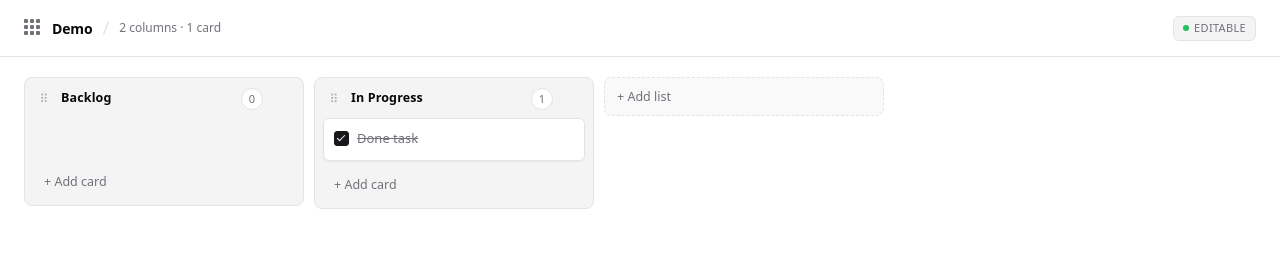
Scenario: Board data loss (two-browser reproduction) › (a) CONCURRENT SAME-COLUMN add: B adds "Card Y" while a remote add of "Card X" to the SAME column arrives → BOTH must survive
# B adds "Card Y" to the empty "Backlog" column (debouncing, not yet flushed).
Click the 1st button "+ Add card": x=75, y=181 [33,166,295,197]
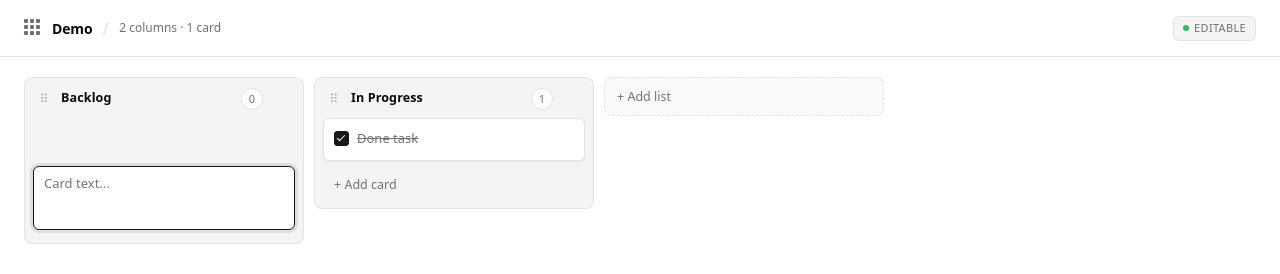
In the text box with placeholder "Card text...": x=164, y=198 [33,166,295,230], type "Card Y"
Then press Enter
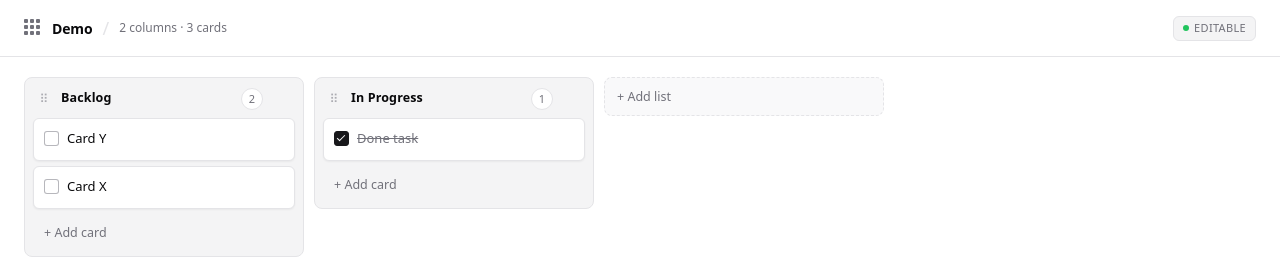
expect the text "Card Y" is shown: met, box [67,129,106,147]
